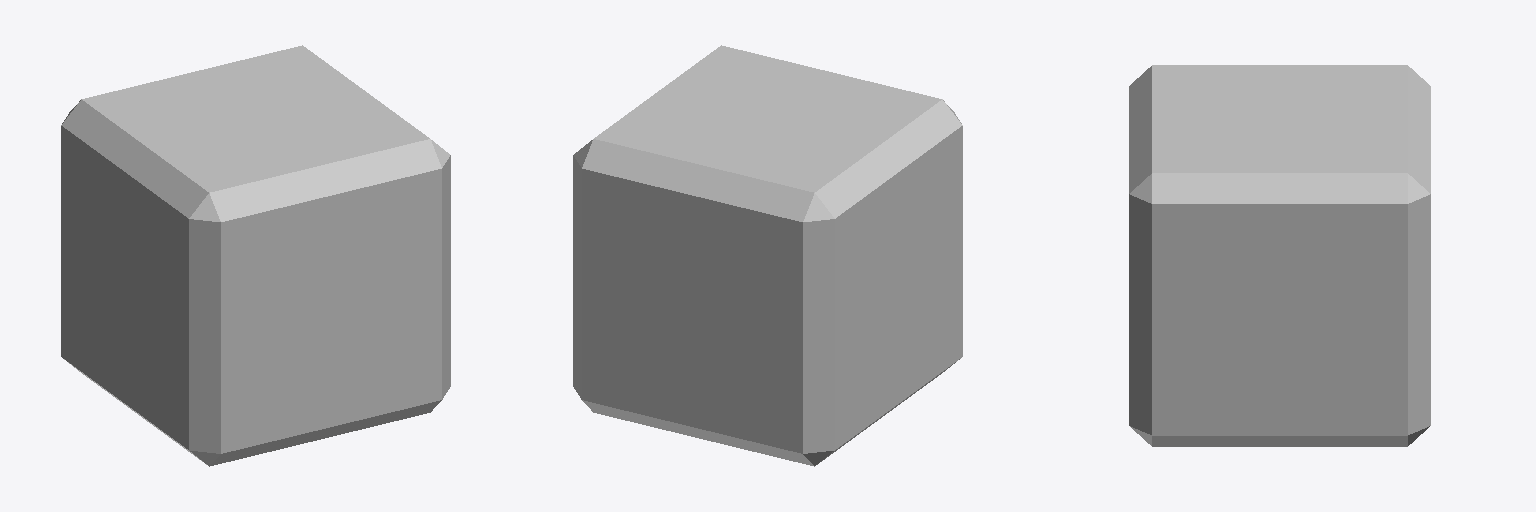
File: Ice.obj
3 renders of one model, left to right at view 1: azimuth 30°, elevation 25°; view 2: azimuth 150°, elevation 25°; view 3: azimuth 270°, elevation 25°, orthographic.
Visible parts, largest first — view 1: Cube.012; view 2: Cube.012; view 3: Cube.012.
Part boxes in pixels (x1,y1,x2,y2): Cube.012: (61, 45, 450, 466); Cube.012: (573, 45, 962, 466); Cube.012: (1129, 65, 1430, 446).
Bounding box in the file's own units: 0.2631 × 0.2631 × 0.2631.